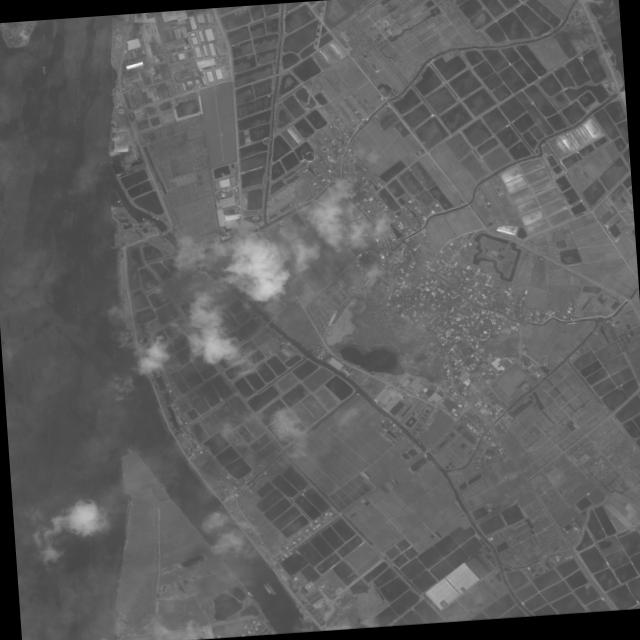ship: (265, 580, 277, 595), (262, 582, 273, 594), (297, 614, 307, 626), (99, 161, 110, 165), (42, 64, 46, 74), (103, 159, 110, 162), (116, 199, 121, 202)
